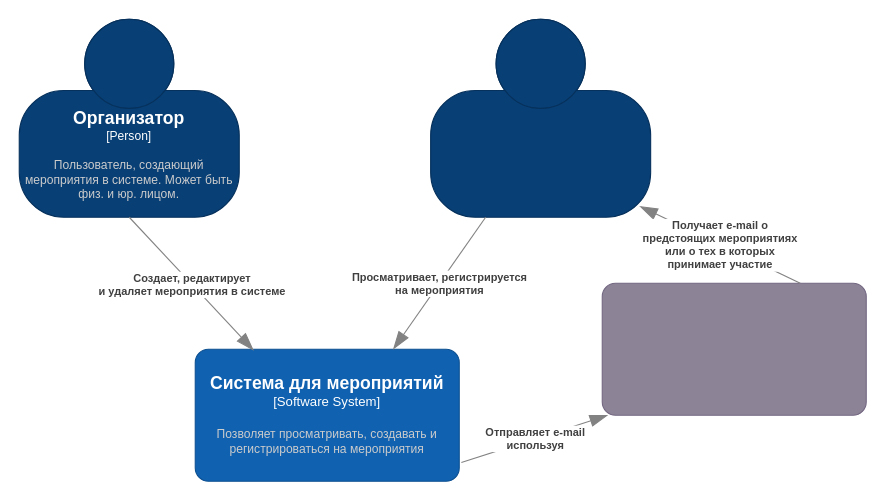
Image size: 886x501. Some labels were removed from this diagram. Here are the shapes that lost their labels. From the top down, the centre of each, then its label:
At [540,117]: "Участник [Person] Пользователь, который может регистрироваться на мероприятия".
At [733,348]: "E-mail System [Software System]".
